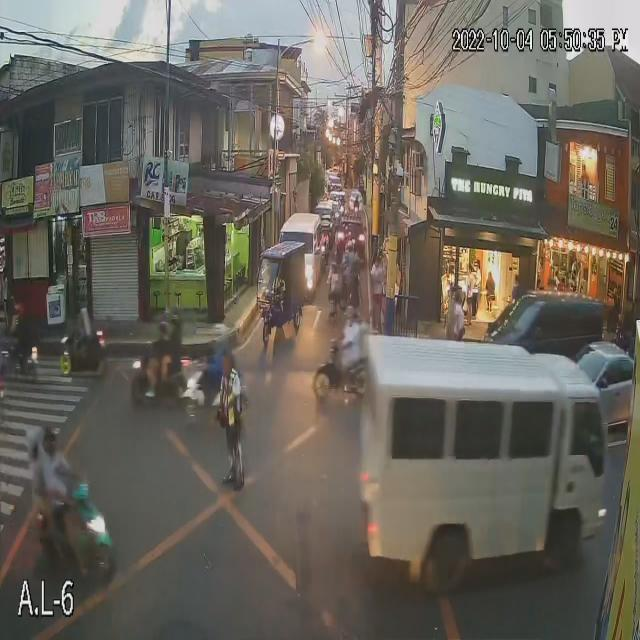helmet: (20, 429, 44, 468), (38, 419, 61, 455), (211, 321, 234, 351), (8, 298, 28, 329), (342, 303, 363, 328), (167, 313, 186, 336), (73, 292, 91, 315), (154, 320, 173, 341)
motorcycle: (33, 489, 116, 583), (184, 365, 246, 422), (129, 349, 188, 407), (56, 326, 112, 384), (314, 354, 368, 403), (0, 329, 45, 379)
rider: (43, 418, 82, 514), (13, 428, 50, 502), (136, 316, 173, 383), (163, 309, 192, 370), (334, 301, 361, 360), (11, 298, 35, 353), (73, 289, 96, 343), (213, 320, 231, 379)
